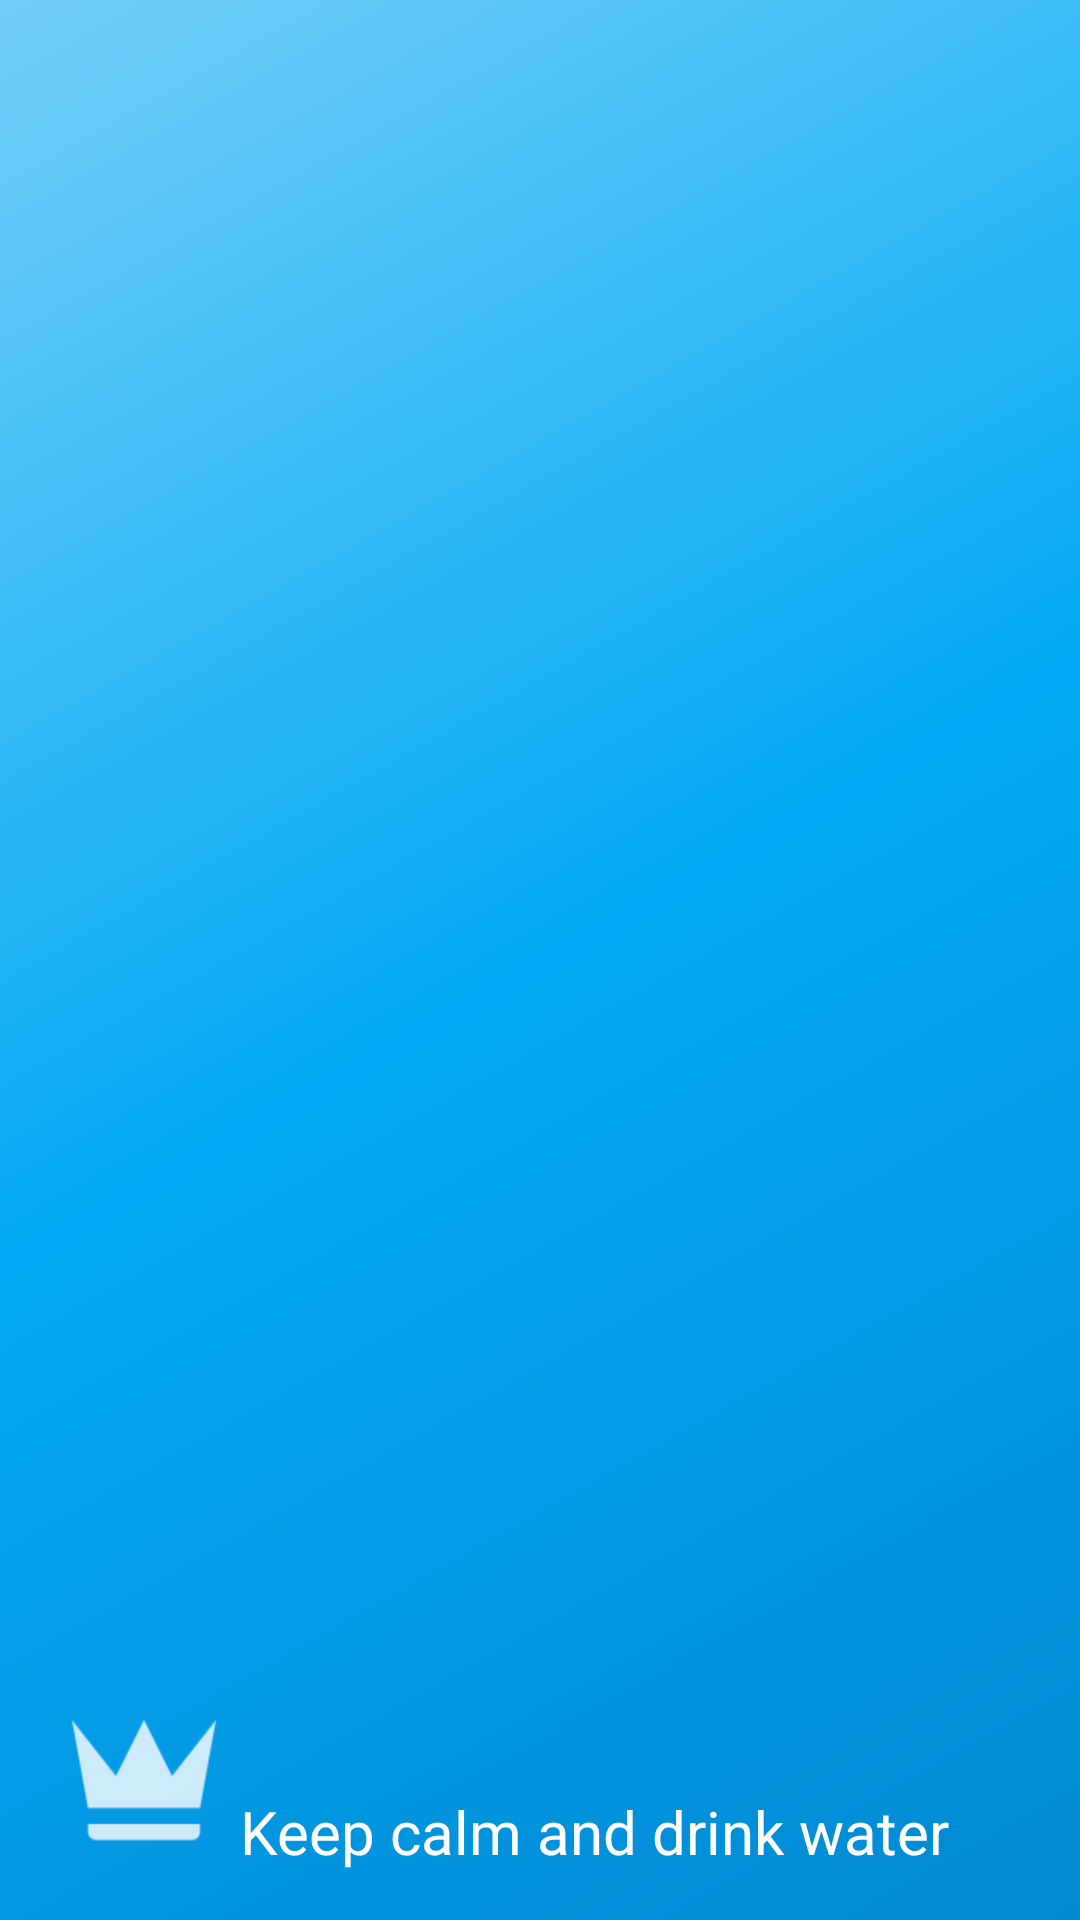

Icons on this 1080w x 1920h Android screen, each with the point to tap as (x=x, y=y):
crown: (x=144, y=1780)
